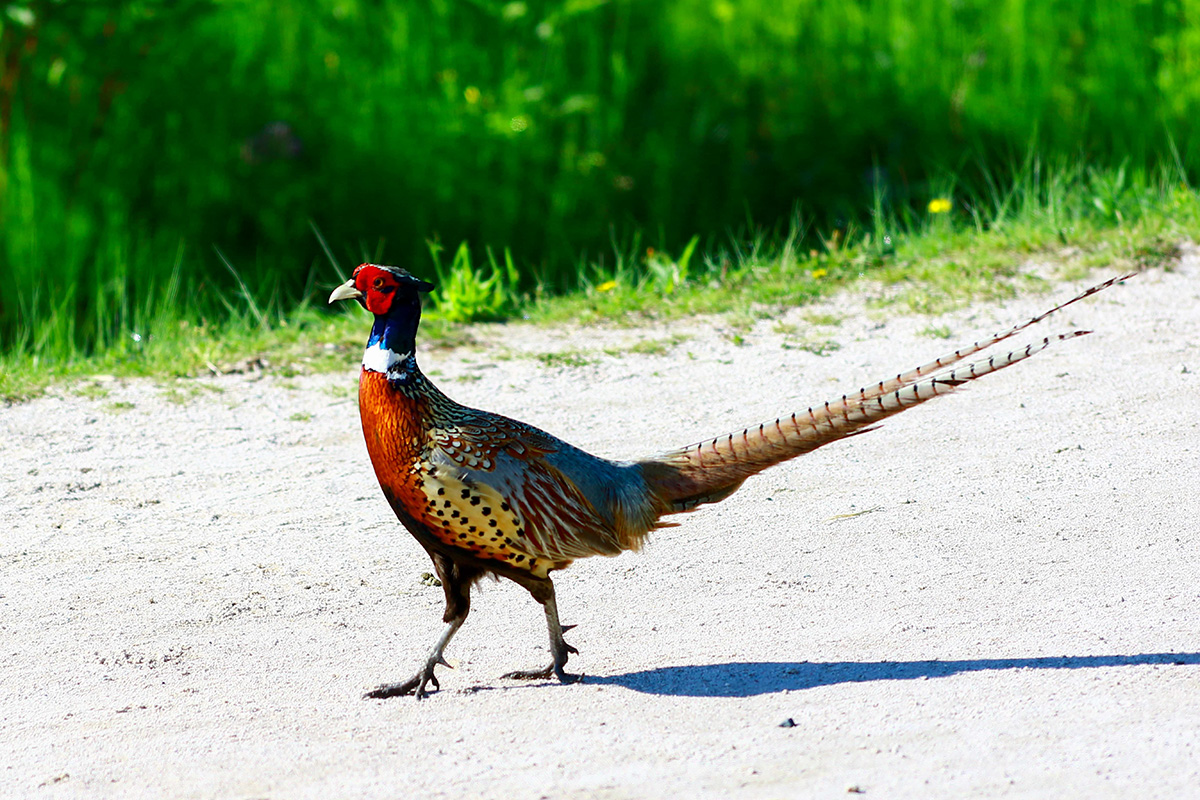pheasant: (328, 258, 1088, 669)
